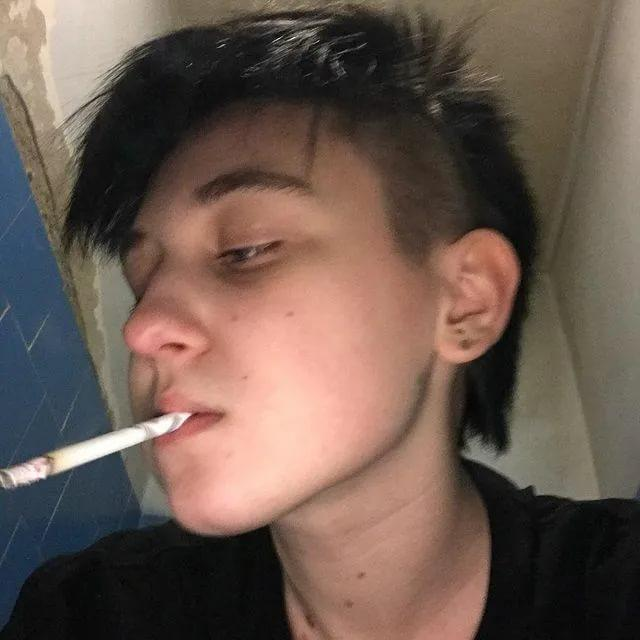smoke: (0, 410, 193, 493)
